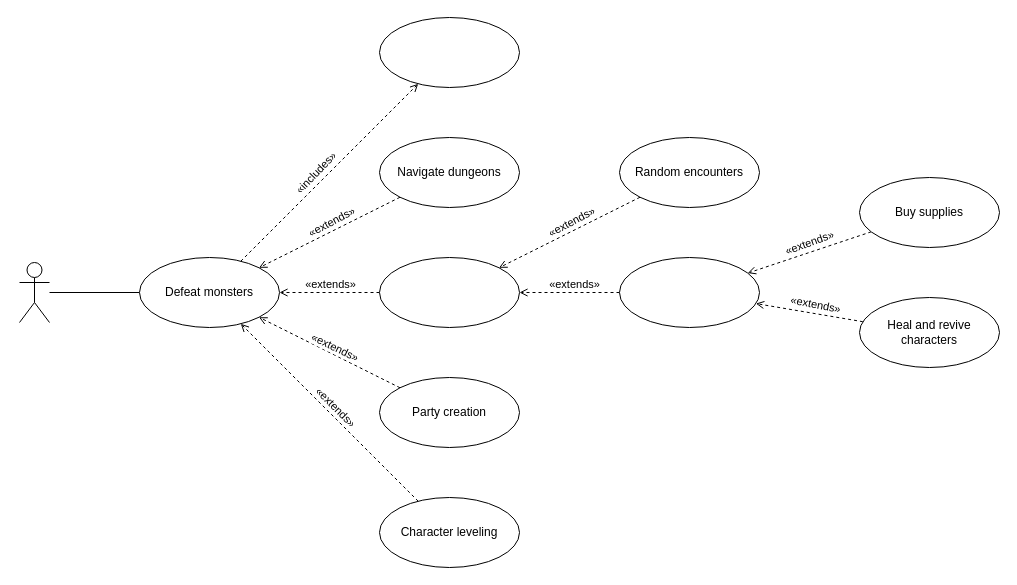
The diagram is 1017 pixels wide and 585 high, and some of its shapes have lost their labels. Each missing label, with the centre of its shape:
Fight battles: (x=449, y=52)
Player: (x=34, y=292)
Travel the world: (x=449, y=292)
Visit towns: (x=689, y=292)
